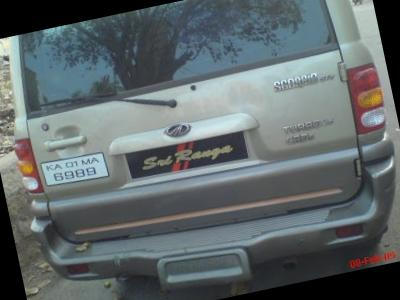plate: (33, 142, 115, 198)
